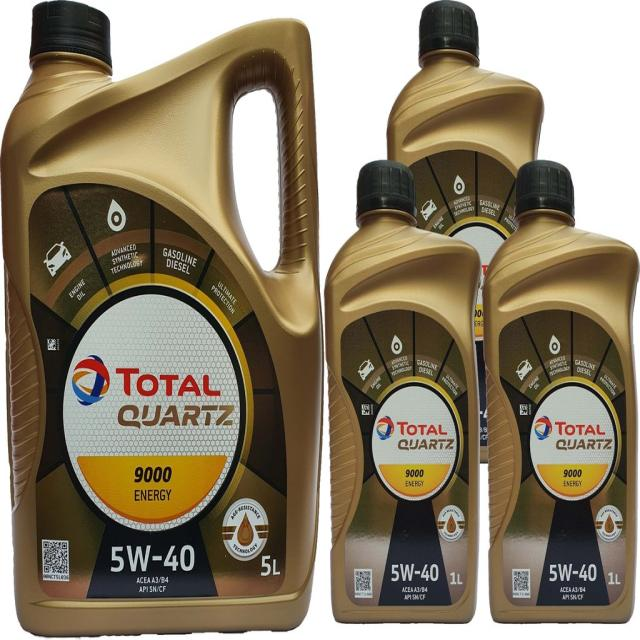motor_oil: (9, 6, 320, 637), (324, 162, 484, 622), (492, 162, 640, 626)
